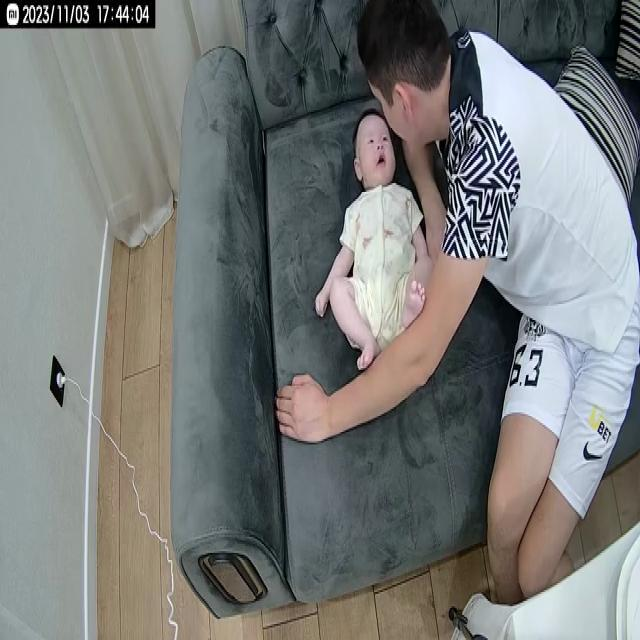baby: (310, 104, 442, 373)
